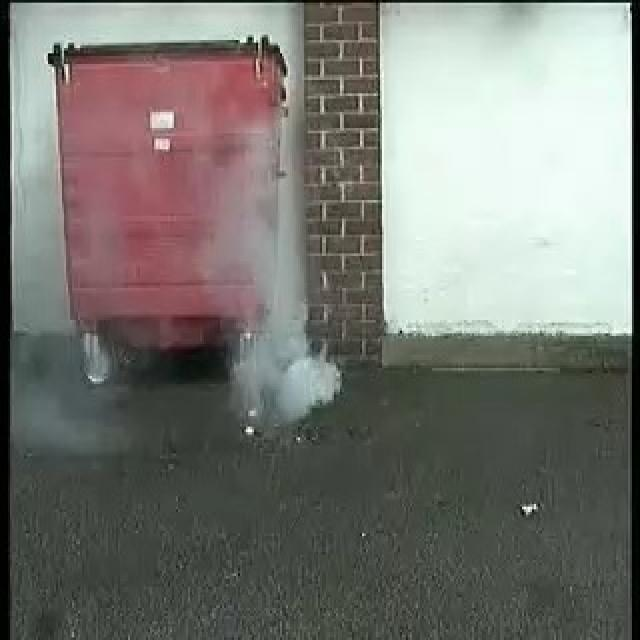smoke: (228, 165, 346, 411)
